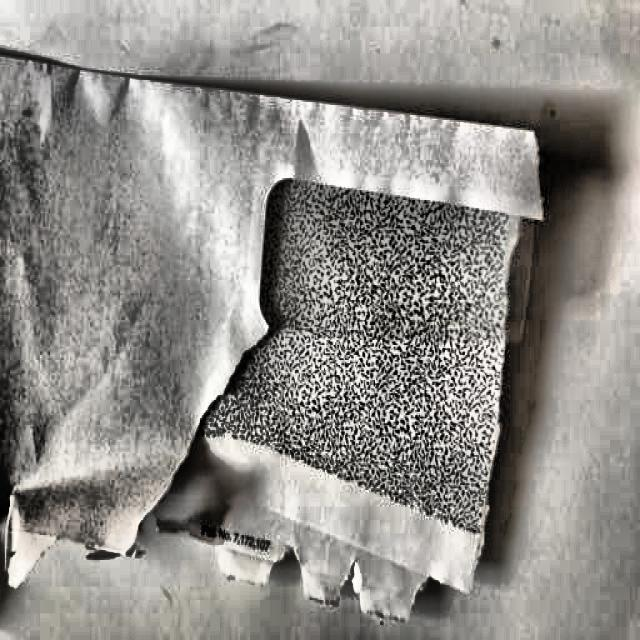paper: (4, 54, 545, 627)
